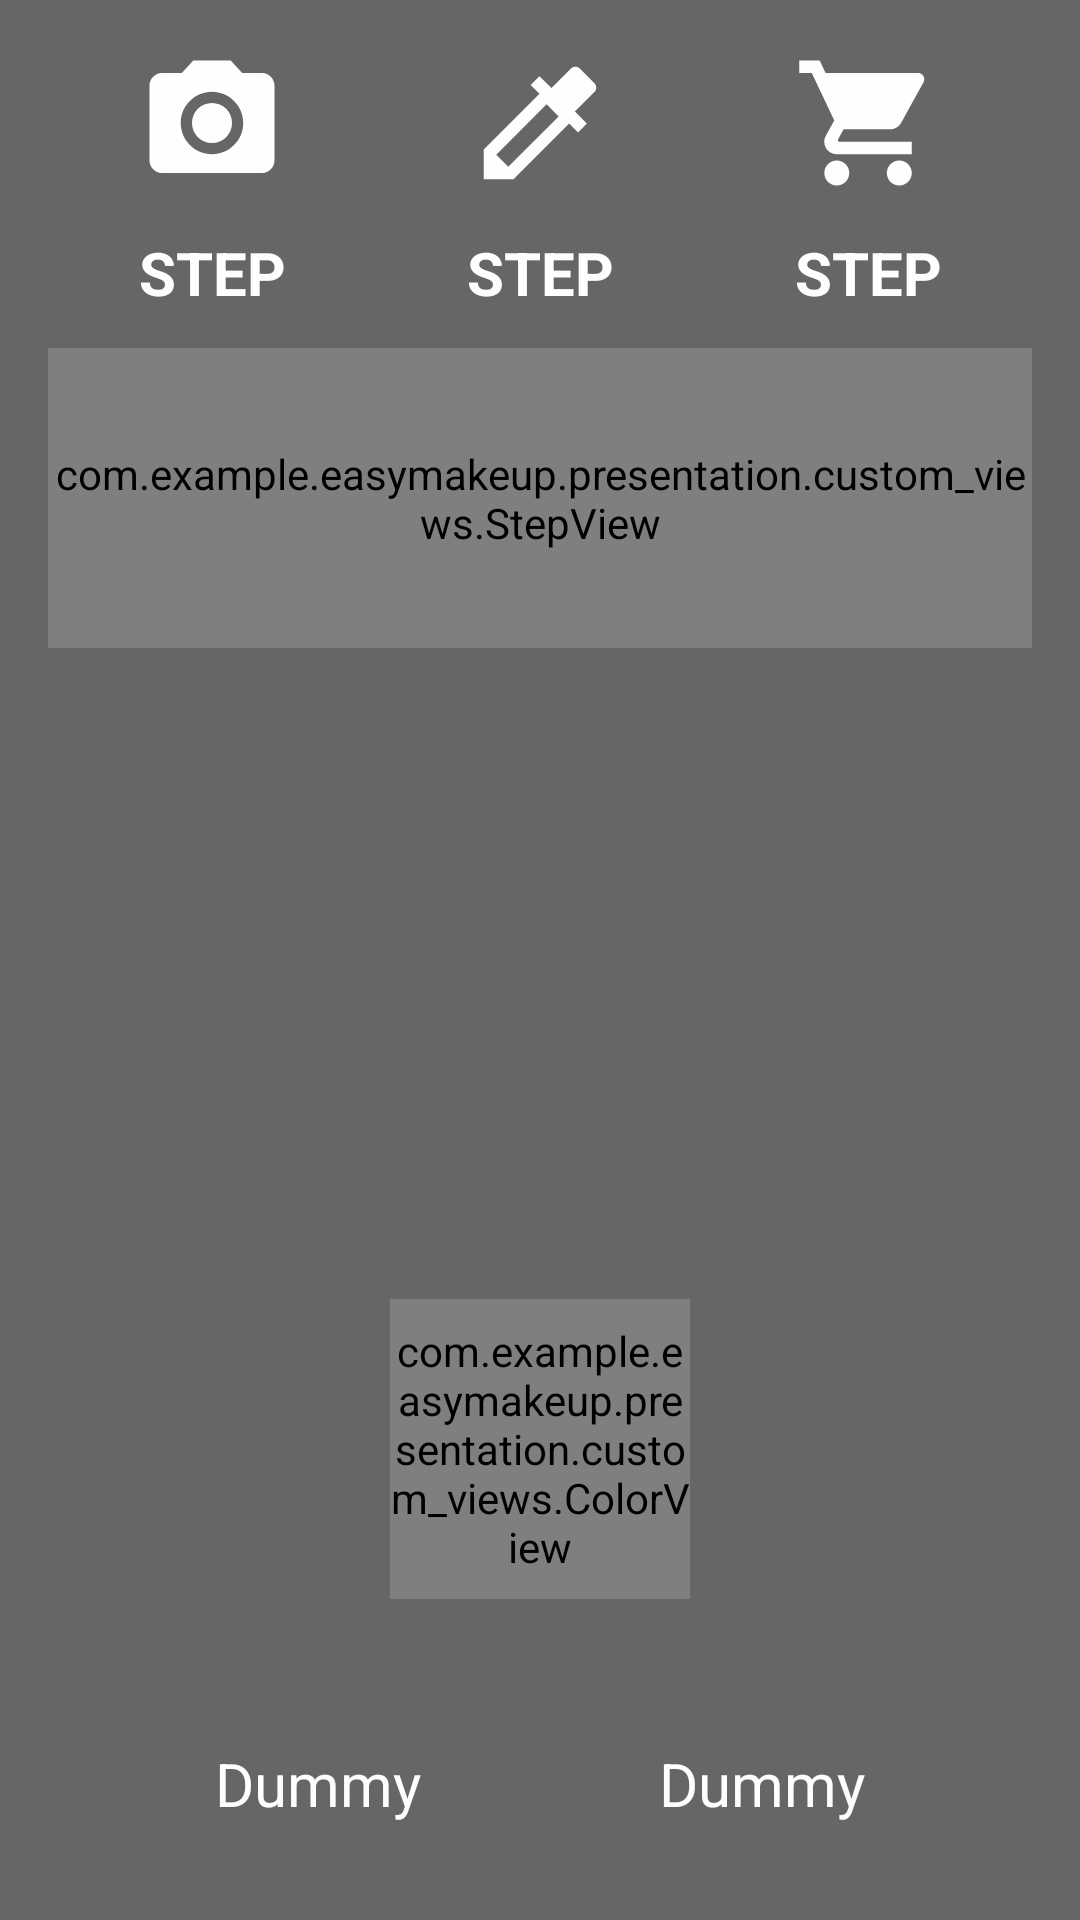

Icon bounding boxes for this 1080w x 1920h phone screenshot, format (x1, y1, x2, y2):
camera: (149, 60, 275, 173)
cart: (799, 60, 925, 186)
picker: (483, 66, 597, 180)
